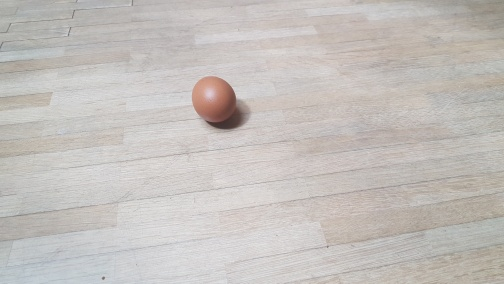egg: (191, 74, 239, 124)
